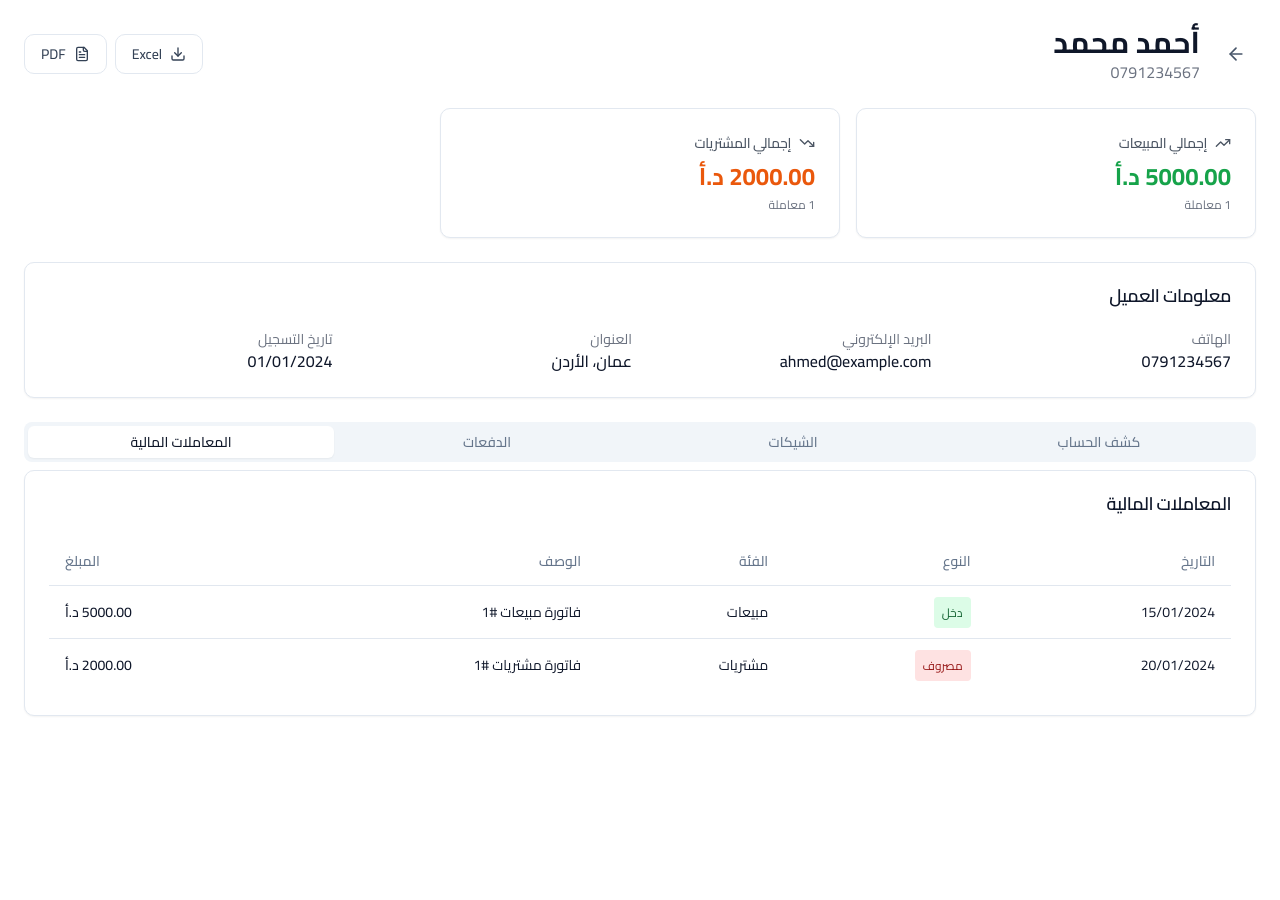
Test case: ClientDetailPage › Payments Tab › should display payments when tab is clicked
Click the tab "الدفعات": click(487, 442) [334,426,640,458]
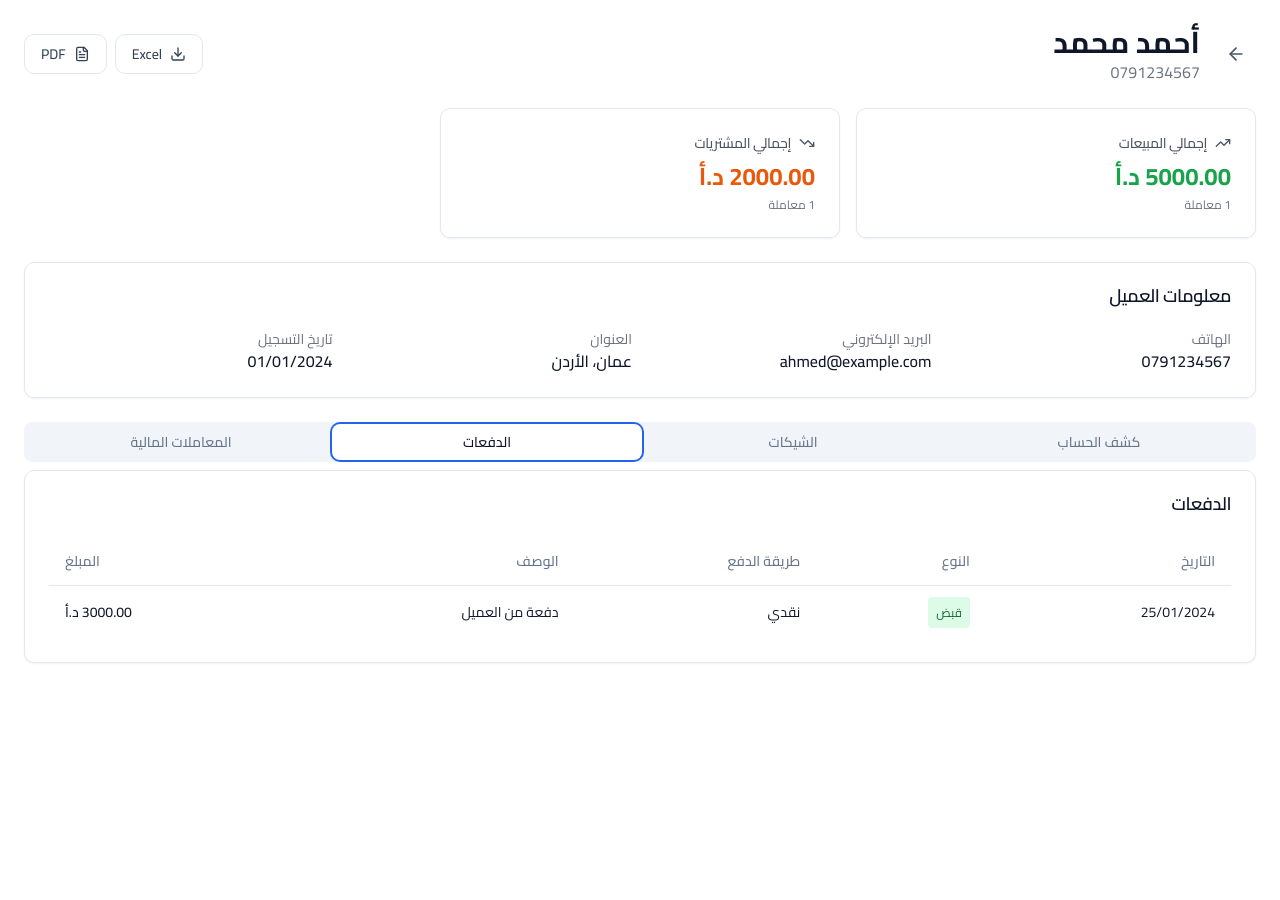
Result: the text "دفعة من العميل" is shown at [277,585,575,638]
